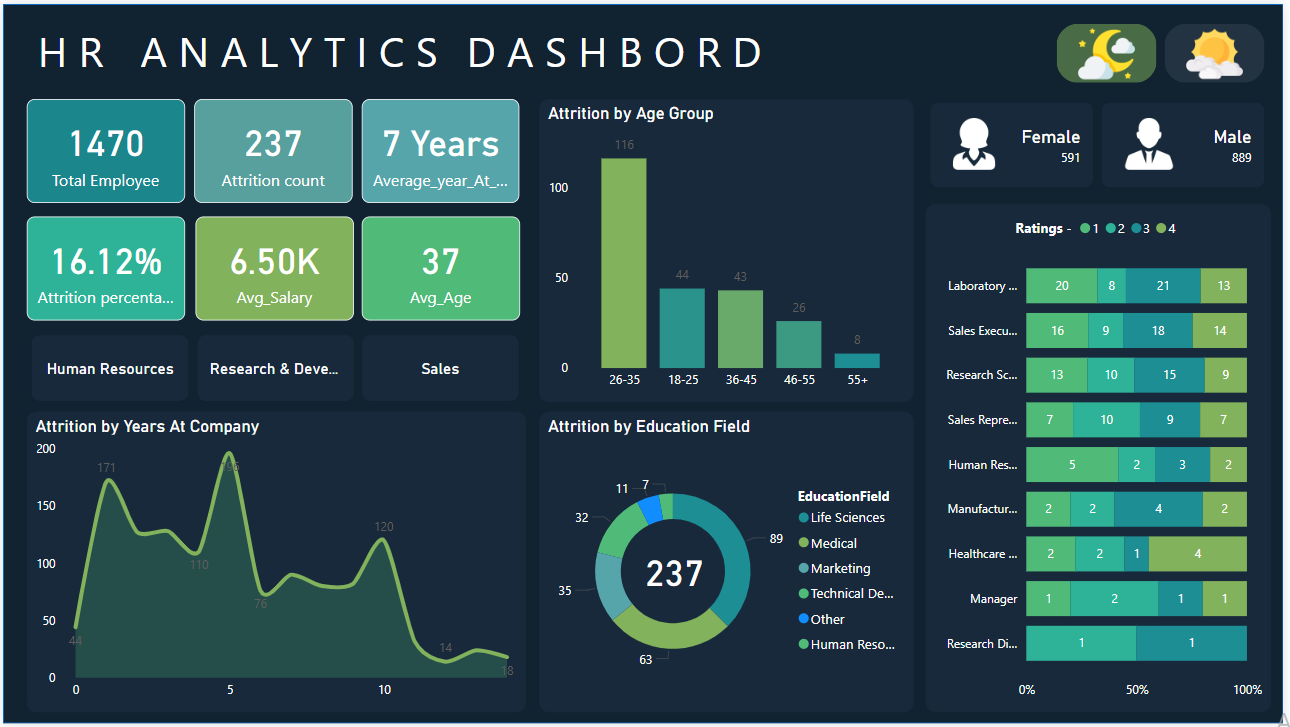

The dashboard page shown, as its layout file describes it:
{"tool":"powerbi","page":{"name":"Dashboard","canvas":[1280,720],"ordinal":0},"visuals":[{"type":"shape","box":[0,0,1280.3,719.5],"z":0},{"type":"shape","box":[464,14.8,303.9,61.9],"z":0,"group":"g1"},{"type":"shape","box":[35,14.8,84.7,61.9],"z":1000,"group":"g1"},{"type":"card","fields":{"Values":["HR_Analytics.Total Employee"]},"box":[23.3,95.1,158,104.3],"z":1000},{"type":"shape","box":[137.9,14.8,308,61.9],"z":2000,"group":"g1"},{"type":"card","fields":{"Values":["HR_Analytics.Attrition count"]},"box":[190.7,95.1,158,104.3],"z":2000},{"type":"card","fields":{"Values":["HR_Analytics.Average_year_At_Company"]},"box":[358.1,95.1,157.8,104.3],"z":3000},{"type":"card","fields":{"Values":["HR_Analytics.Attrition percentage"]},"box":[23.3,213.1,158,104],"z":4000},{"type":"card","fields":{"Values":["HR_Analytics.Avg_Salary"]},"box":[192.1,213,158,104.3],"z":5000},{"type":"card","fields":{"Values":["HR_Analytics.Avg_Age"]},"box":[358.1,213.1,158,104],"z":6000},{"type":"areaChart","title":"Attrition by Years At Company","fields":{"Category":["HR_Analytics.YearsAtCompany"],"Y":["HR_Analytics.Total Employee"]},"box":[23.3,407.5,499.5,300.5],"z":7000},{"type":"donutChart","title":"Attrition by Education Field","fields":{"Category":["HR_Analytics.EducationField"],"Y":["HR_Analytics.Attrition count"]},"box":[536.5,407.5,374.6,300.5],"z":8000},{"type":"hundredPercentStackedBarChart","fields":{"Category":["HR_Analytics.JobRole"],"Series":["HR_Analytics.JobSatisfaction"],"Y":["HR_Analytics.Attrition count"]},"box":[922.5,200.4,345.6,508.3],"z":9000},{"type":"columnChart","title":"Attrition by Age Group","fields":{"Category":["HR_Analytics.AgeGroup"],"Y":["HR_Analytics.Attrition count"]},"box":[536.5,94.7,374.6,303.3],"z":10000},{"type":"advancedSlicerVisual","fields":{"Values":["HR_Analytics.Gender"]},"box":[922.5,94.1,345.6,95.5],"z":11000},{"type":"advancedSlicerVisual","fields":{"Values":["HR_Analytics.Department"]},"box":[23.3,326.6,499.5,76.8],"z":12000},{"type":"card","fields":{"Values":["HR_Analytics.Attrition count"]},"box":[625.7,544.8,90.6,42.5],"z":13000},{"type":"advancedSlicerVisual","fields":{"Values":["Theme colour.Label"]},"box":[1049,14.8,219.2,69.9],"z":14000},{"type":"group","id":"g1","title":"Group 1","box":[35,14.8,732.9,61.9],"z":15000},{"type":"advancedSlicerVisual","fields":{"Values":["Theme colour.Male_Icon"]},"box":[1090.7,107.6,110.3,64.6],"z":16000},{"type":"advancedSlicerVisual","fields":{"Values":["Theme colour.Male_Icon"]},"box":[915.8,107.6,110.3,64.6],"z":17000}]}

Visuals, with their boxes in screenshot pixels (x1, y1, x2, y2), scaled from the page's 1280x720 canvas onto the 1290x727 screenshot:
shape: <bbox>0, 0, 1289, 726</bbox>
shape: <bbox>468, 15, 774, 77</bbox>
shape: <bbox>35, 15, 121, 77</bbox>
card - HR_Analytics.Total Employee: <bbox>23, 96, 183, 201</bbox>
shape: <bbox>139, 15, 449, 77</bbox>
card - HR_Analytics.Attrition count: <bbox>192, 96, 351, 201</bbox>
card - HR_Analytics.Average_year_At_Company: <bbox>361, 96, 520, 201</bbox>
card - HR_Analytics.Attrition percentage: <bbox>23, 215, 183, 320</bbox>
card - HR_Analytics.Avg_Salary: <bbox>194, 215, 353, 320</bbox>
card - HR_Analytics.Avg_Age: <bbox>361, 215, 520, 320</bbox>
"Attrition by Years At Company" areaChart: <bbox>23, 411, 527, 715</bbox>
"Attrition by Education Field" donutChart: <bbox>541, 411, 918, 715</bbox>
hundredPercentStackedBarChart - HR_Analytics.JobRole x HR_Analytics.JobSatisfaction: <bbox>930, 202, 1278, 716</bbox>
"Attrition by Age Group" columnChart: <bbox>541, 96, 918, 402</bbox>
advancedSlicerVisual - HR_Analytics.Gender: <bbox>930, 95, 1278, 191</bbox>
advancedSlicerVisual - HR_Analytics.Department: <bbox>23, 330, 527, 407</bbox>
card - HR_Analytics.Attrition count: <bbox>631, 550, 722, 593</bbox>
advancedSlicerVisual - Theme colour.Label: <bbox>1057, 15, 1278, 86</bbox>
"Group 1" group: <bbox>35, 15, 774, 77</bbox>
advancedSlicerVisual - Theme colour.Male_Icon: <bbox>1099, 109, 1210, 174</bbox>
advancedSlicerVisual - Theme colour.Male_Icon: <bbox>923, 109, 1034, 174</bbox>
